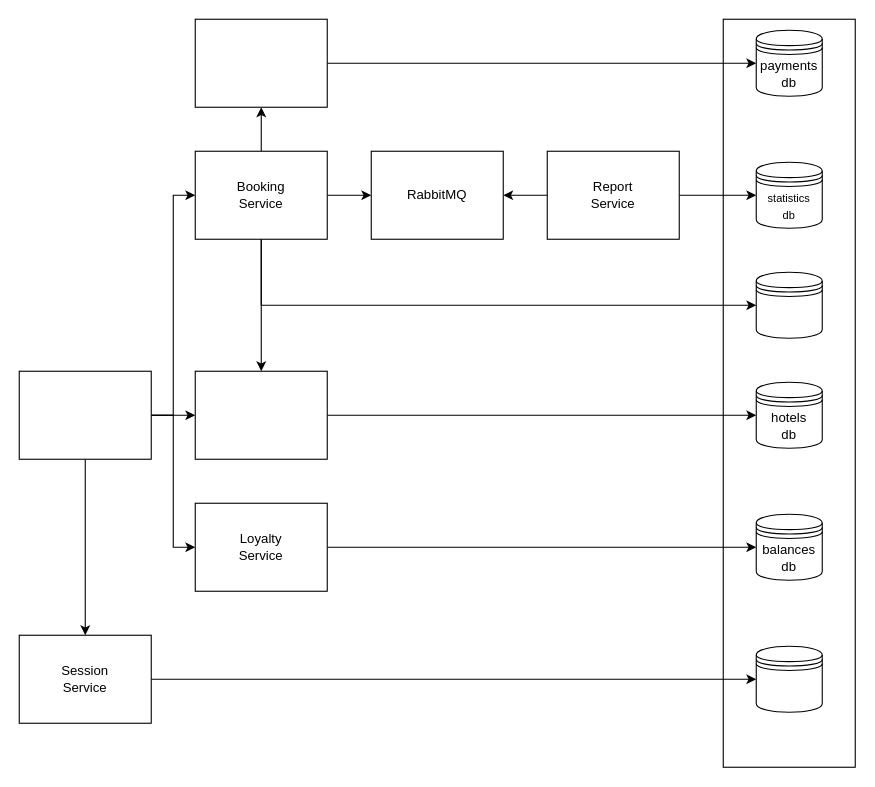
The diagram is 875 pixels wide and 787 high, and some of its shapes have lost their labels. The box of each missing label's shape, as (x1, y1, x2, y2) in pixels:
Gateway Service: (18, 370, 151, 459)
Hotel Service: (194, 370, 327, 459)
Payment Service: (194, 18, 327, 107)
reservations db: (755, 271, 822, 338)
users db: (755, 645, 822, 712)
